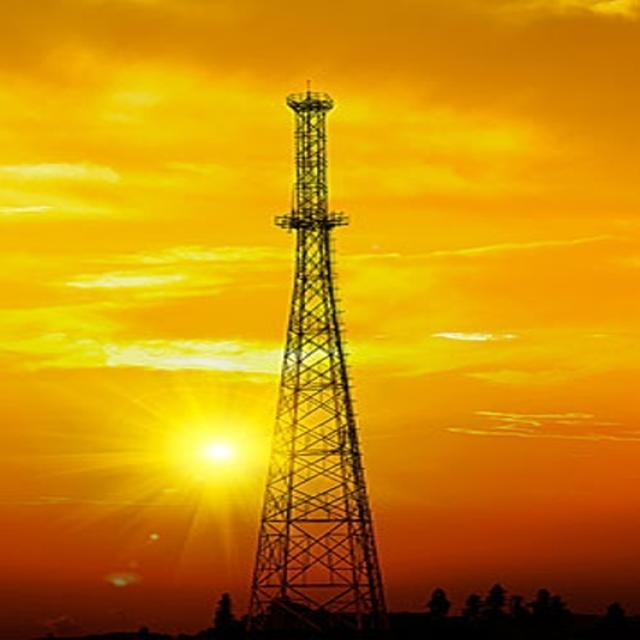non-critical vegetation: (260, 86, 414, 616)
